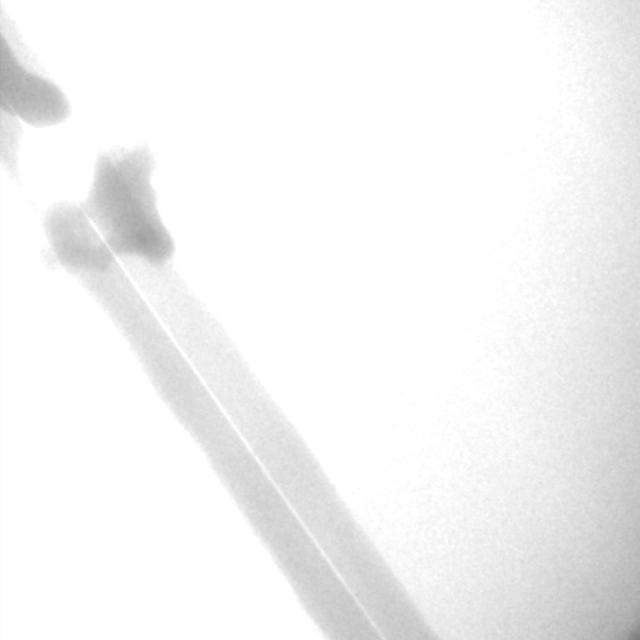broken arc: (4, 102, 383, 636)
